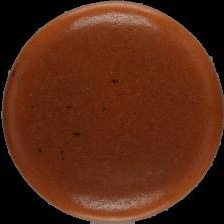67046-103: (0, 0, 224, 224)
